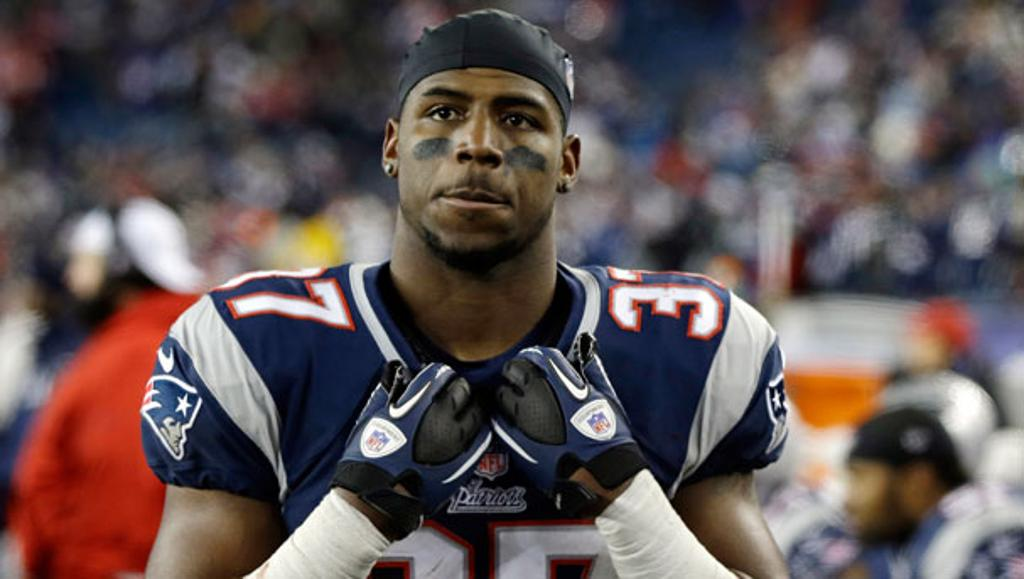face: (396, 80, 562, 254)
